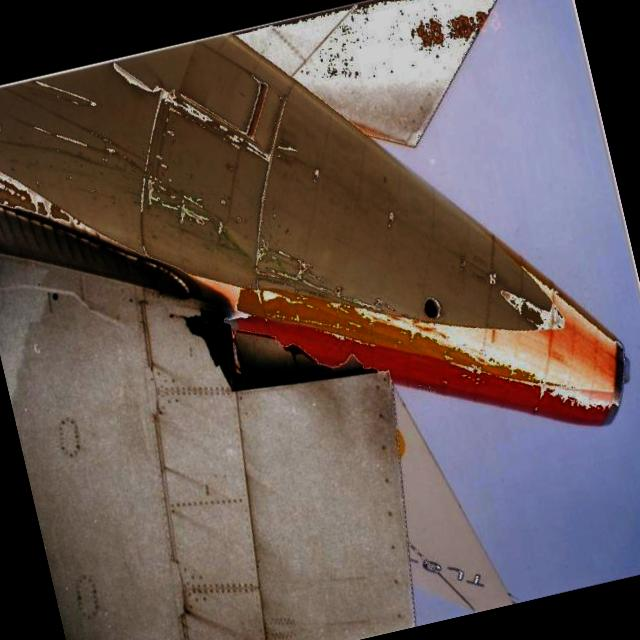crack: (162, 264, 386, 418)
